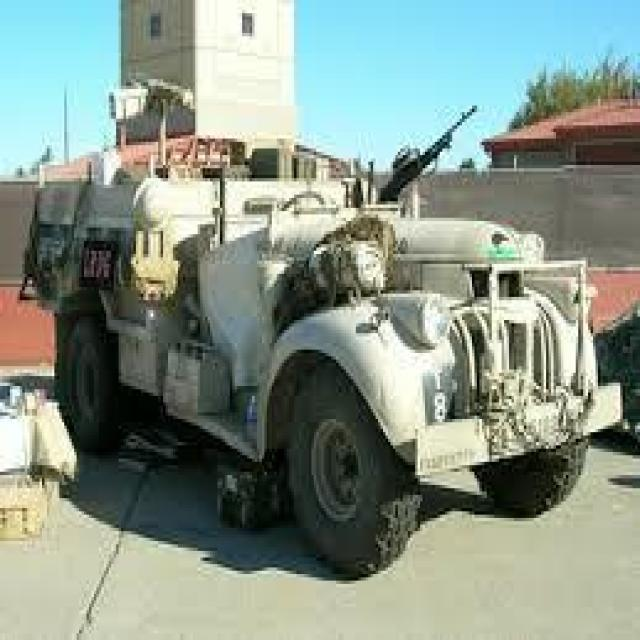Tanks: (15, 23, 618, 577)
